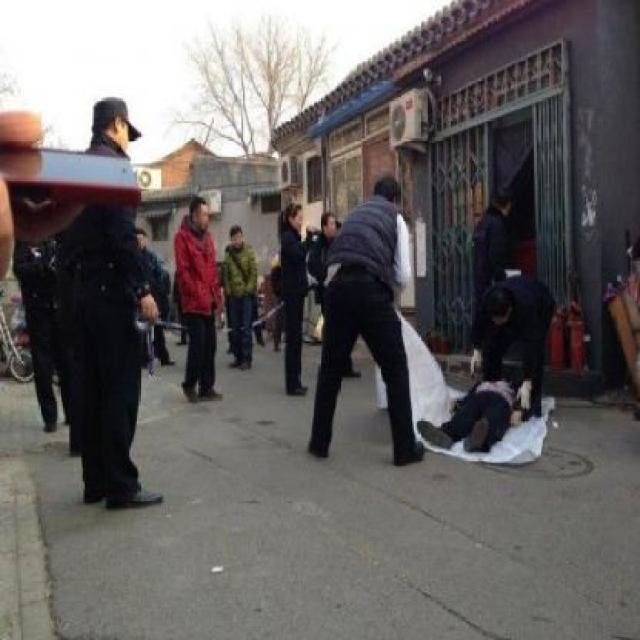fall: (412, 358, 542, 458)
